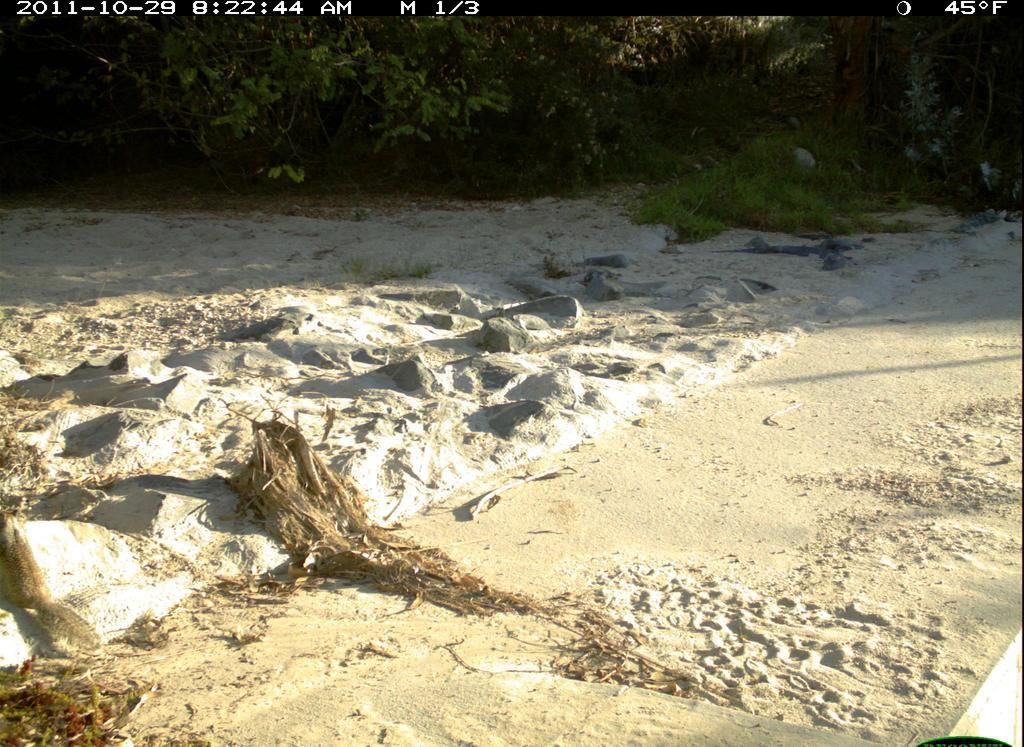squirrel: (1, 511, 114, 661)
